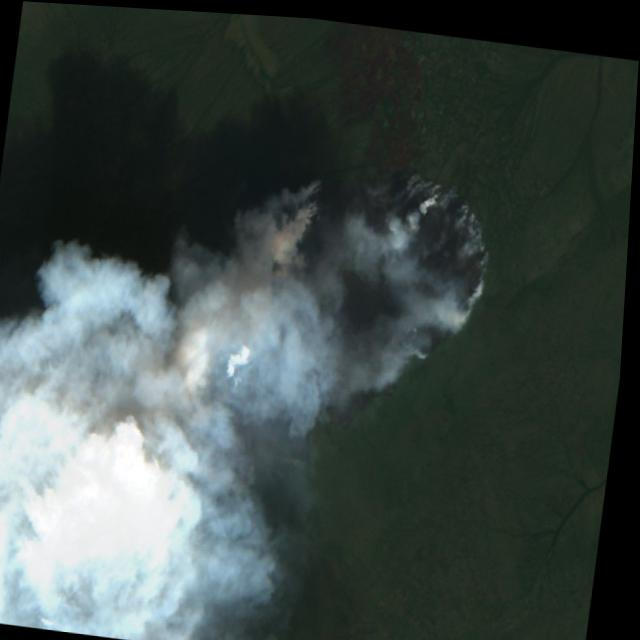fire: (154, 127, 504, 527)
